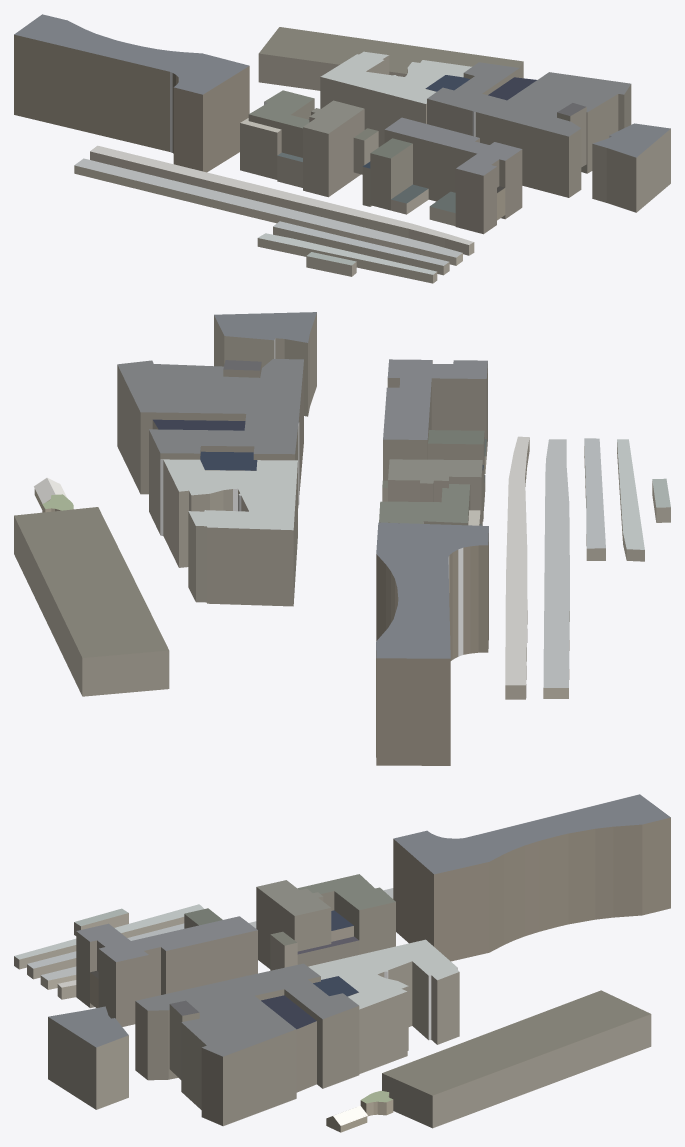
3 views of the same model, one above another, from view 1: azimuth 30°, elevation 25°; view 2: azimuth 150°, elevation 25°; view 3: azimuth 270°, elevation 25° (orthographic). The views are drawn at different scales.
Parts seen in each view (by area): view 1: tuile; view 2: tuile; view 3: tuile.
Part boxes in pixels (x1,y1,x2,y2): tuile: (14, 14, 670, 283); tuile: (14, 312, 670, 765); tuile: (14, 794, 670, 1132).
Size of the model in its own units: 311 by 58.89 by 341.
